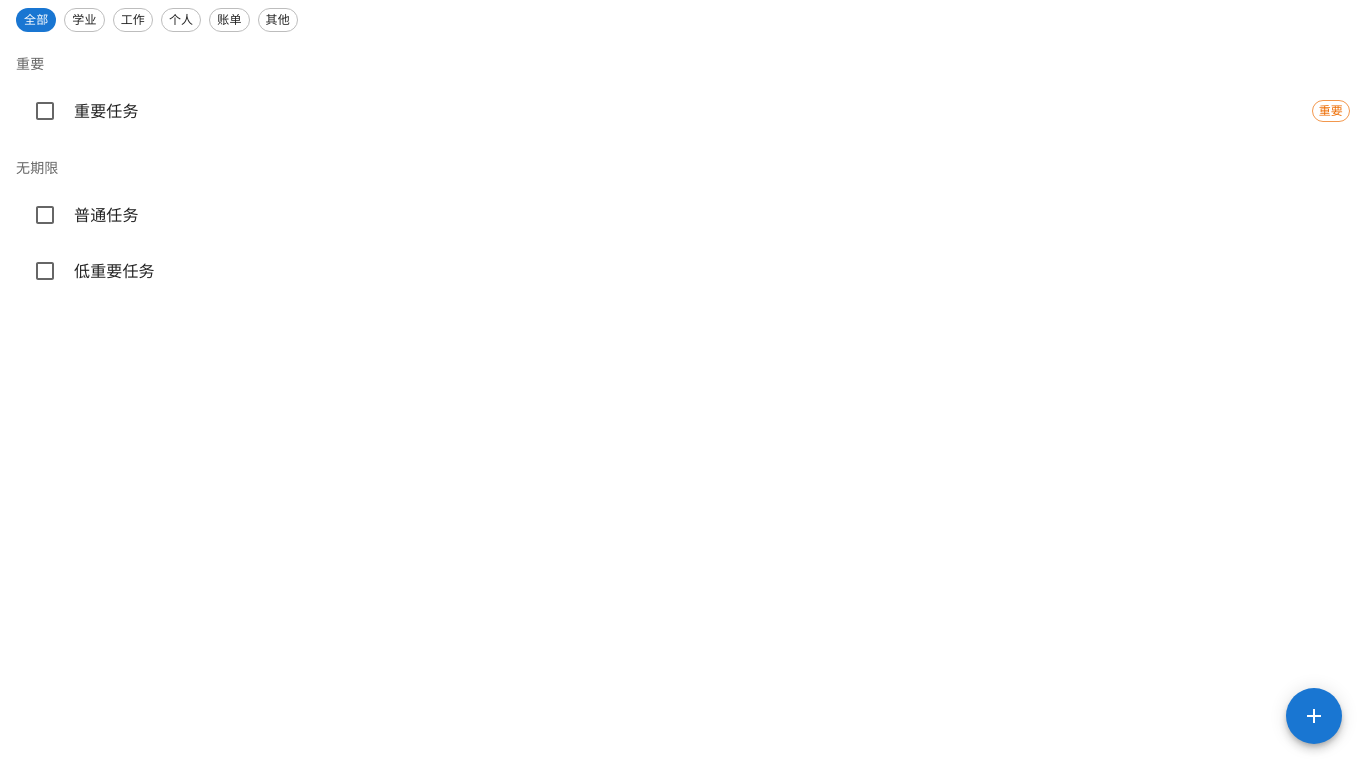
TasksPage 行上下文菜单 › 右键行弹出上下文菜单：菜单纸面带 data-glass="panel"，含 完成/编辑/删除 三项
Expected: the text "重要任务" is shown, left=74, top=102, right=139, bottom=121
Step 1. Right-click the button "重要任务 重要" → (106, 112), box left=33, top=99, right=1350, bottom=123
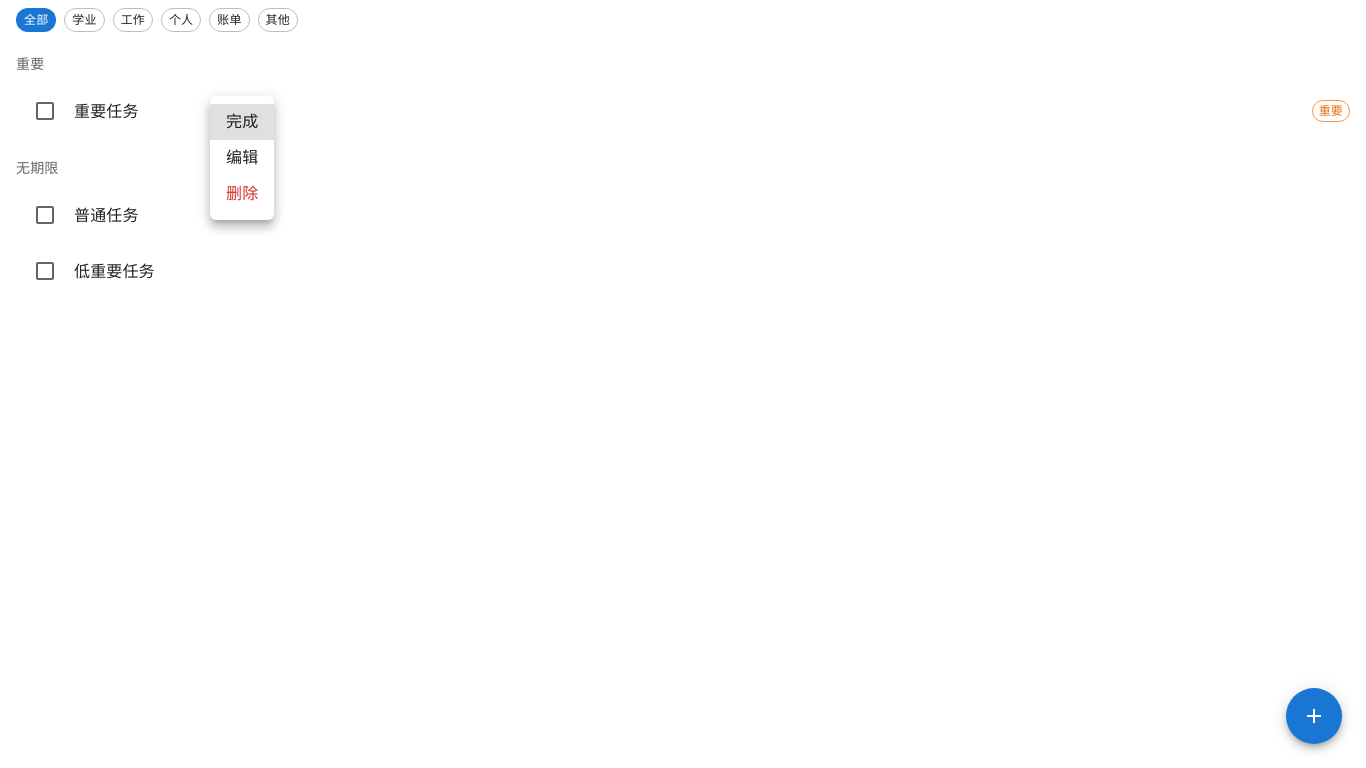
Expected: the element showing "完成 编辑 删除" is shown, left=210, top=96, right=274, bottom=220
Expected: the menu item "完成" is shown, left=210, top=104, right=274, bottom=140
Expected: the menu item "编辑" is shown, left=226, top=148, right=258, bottom=167
